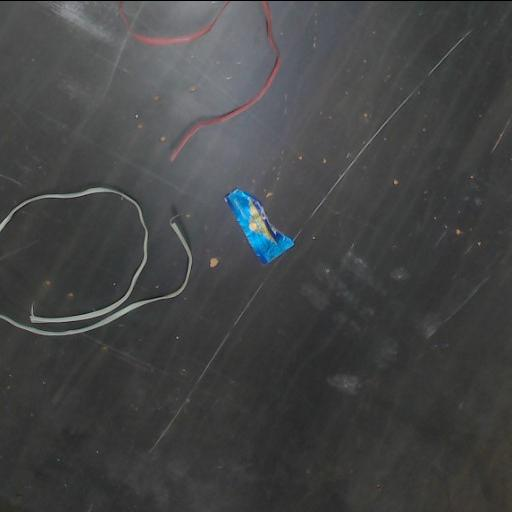conveyor belt: (0, 1, 511, 512)
packet: (225, 189, 294, 262)
thread: (0, 187, 192, 334), (169, 1, 280, 160), (170, 1, 280, 160), (117, 1, 229, 44)
